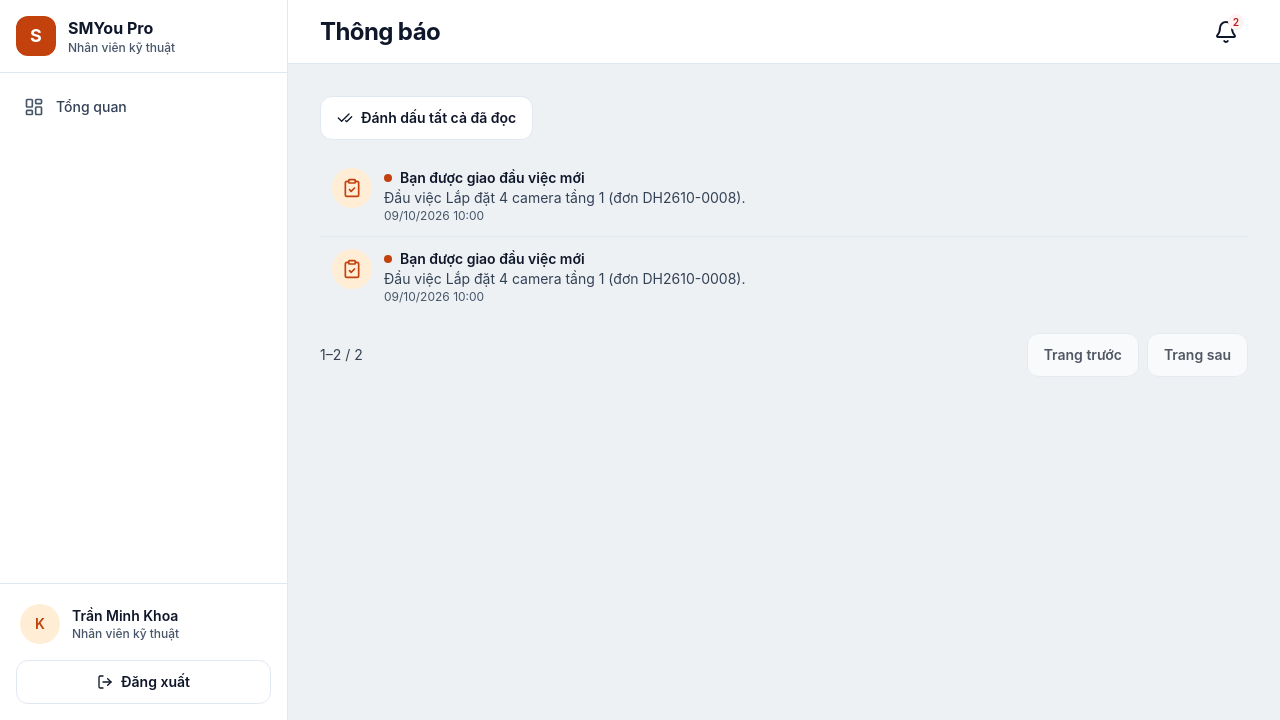
Test: Trang /thong-bao › AC-NTF-029 đánh dấu tất cả đã đọc
The width and height of the screenshot is (1280, 720).
Click the button "Đánh dấu tất cả đã đọc" at point(427, 118), box [320,96,533,140]
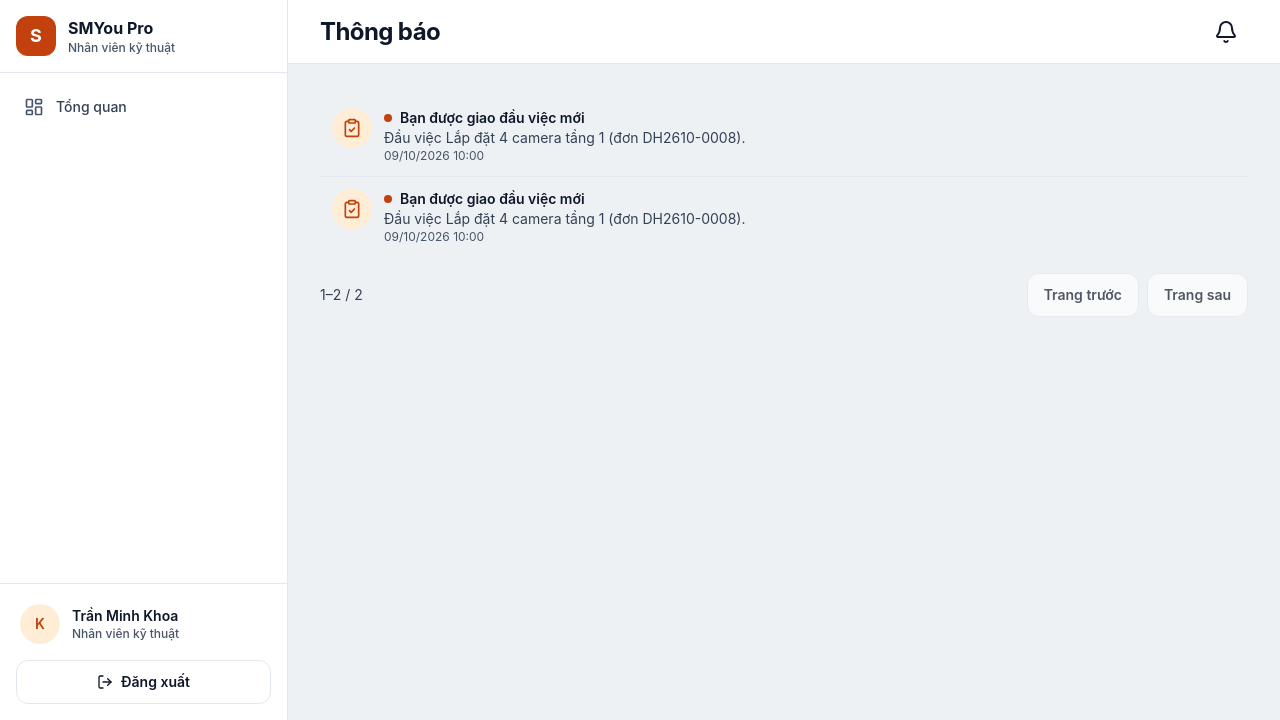
Expected: the button "Đánh dấu tất cả đã đọc" is gone
